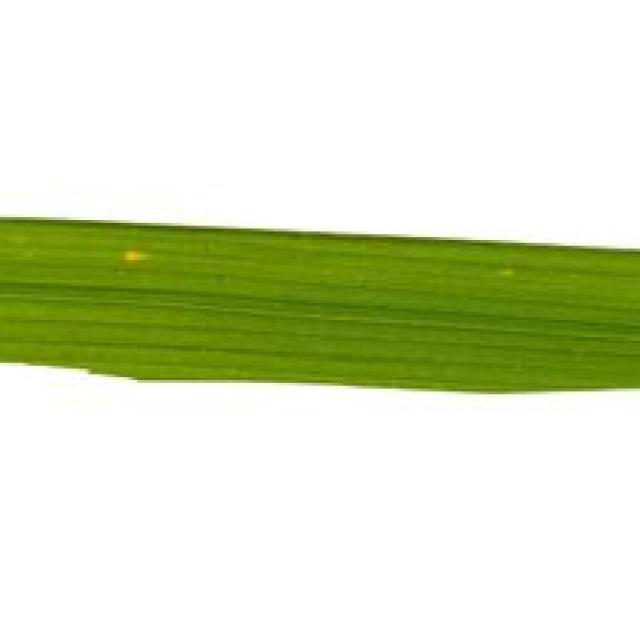Rice___Healthy_Rice_Plant: (0, 214, 637, 393)
